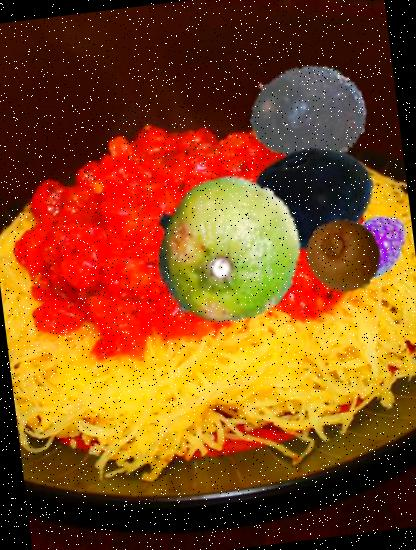Avocado: (244, 50, 372, 178)
Blueberry: (245, 130, 382, 268)
Kiwi: (301, 212, 388, 298)
Limes: (142, 166, 309, 332)
Raspberry: (337, 208, 416, 286)
